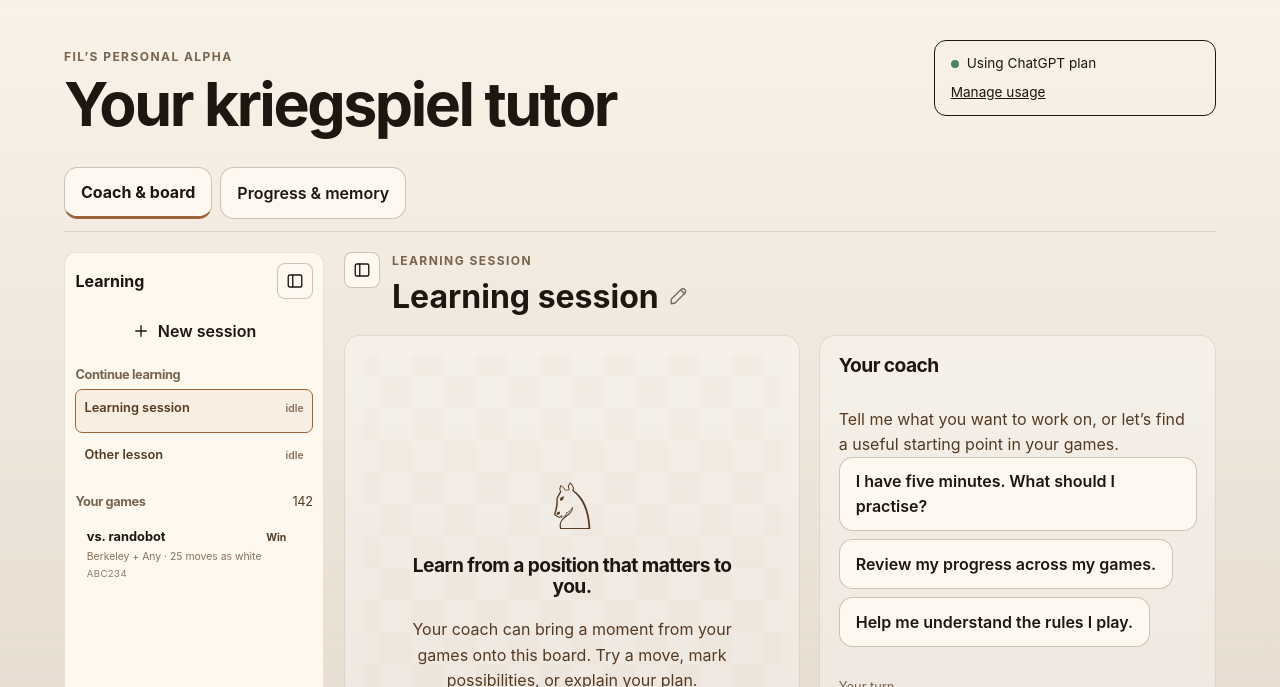
Scenario: does_not_replace_the_active_session_when_an_earlier_rename_finishes_after_switching_to_null
What coordinates should you click on to do the following:
click the button with aria-label "Rename learning session:"
I would click on:
 (540, 297)
Its box is left=392, top=274, right=687, bottom=319.
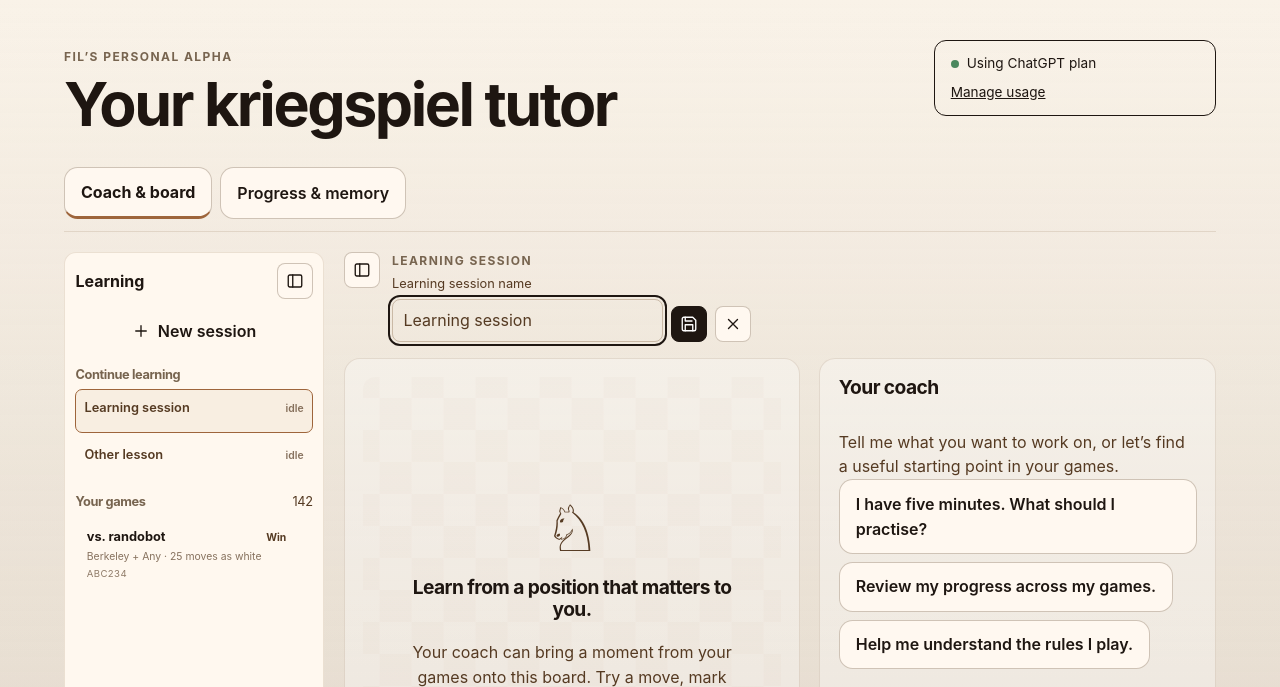
What coordinates should you click on to do the following:
click the button named "Save session name"
I would click on:
 (689, 324)
Its box is left=671, top=306, right=707, bottom=342.
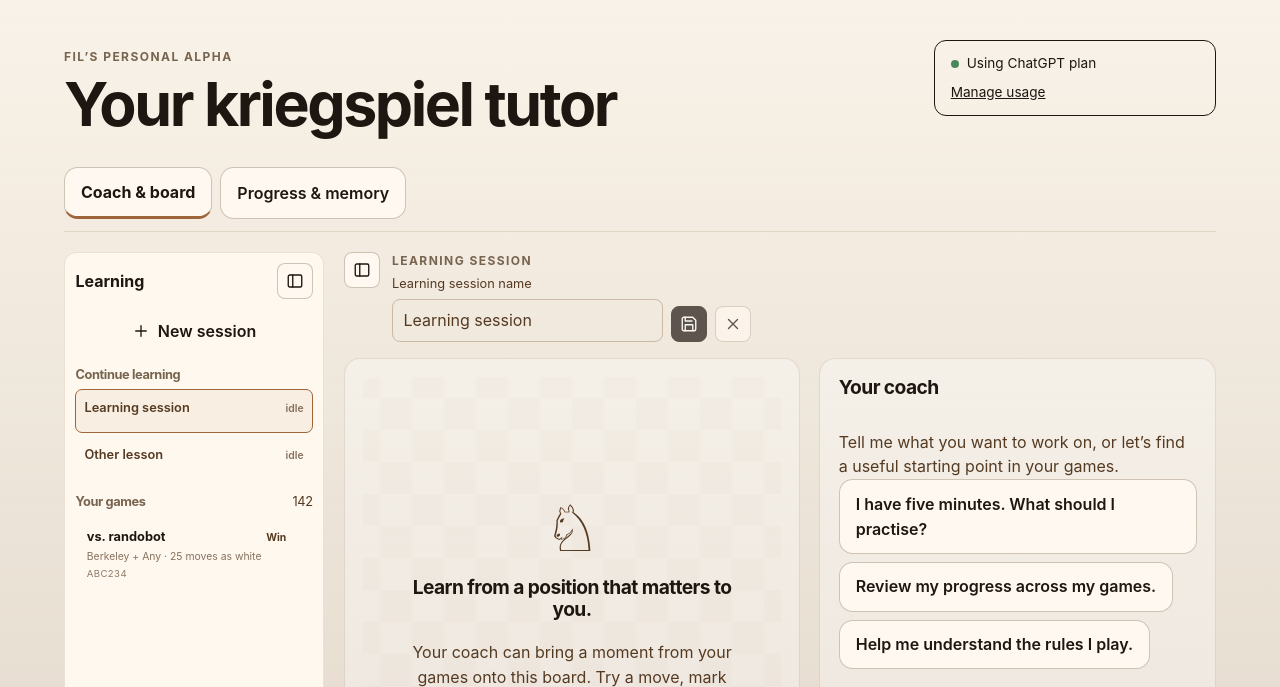
What coordinates should you click on to do the following:
click the button "New session"
I would click on:
 (194, 331)
Its box is left=75, top=309, right=313, bottom=354.
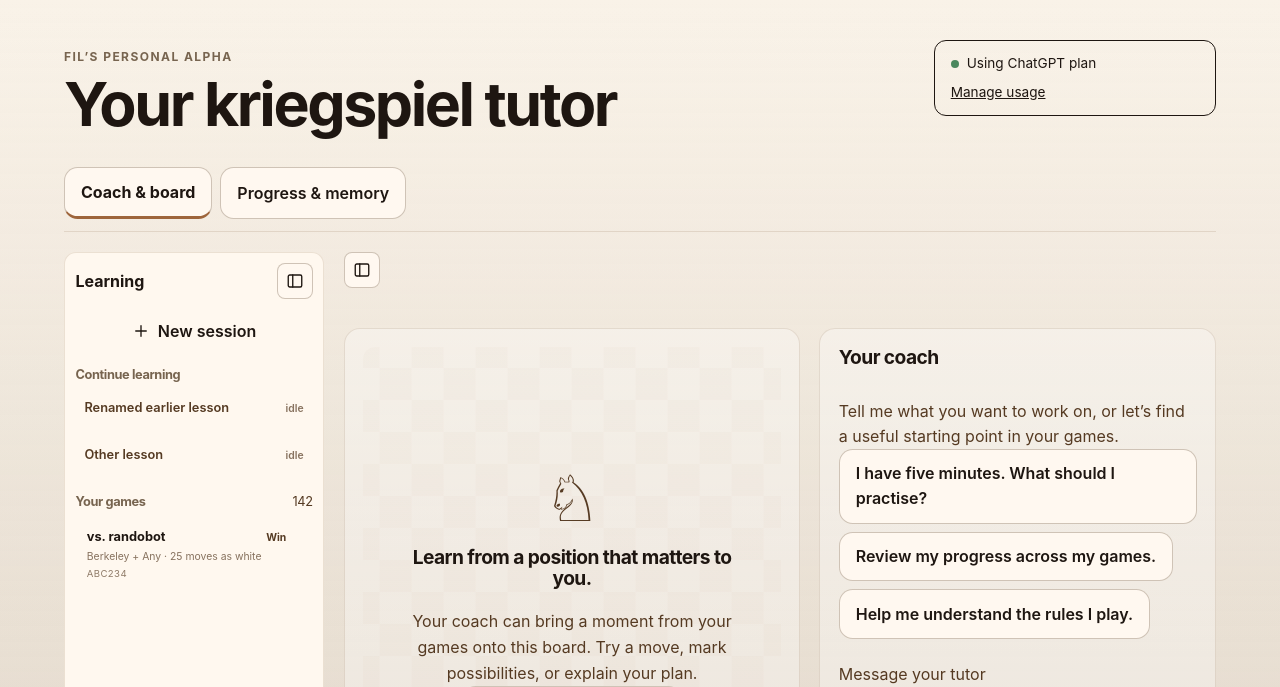
Check: the button "Renamed earlier lesson idle" is shown, box left=75, top=388, right=313, bottom=433
